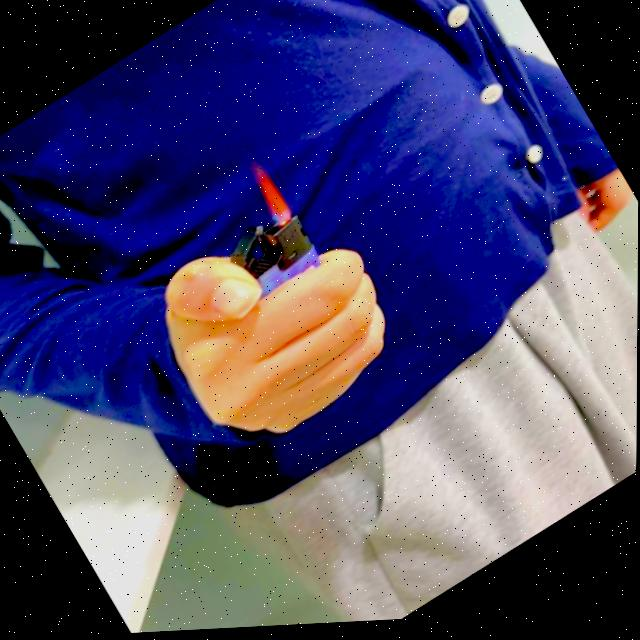Fire: (241, 162, 295, 233)
